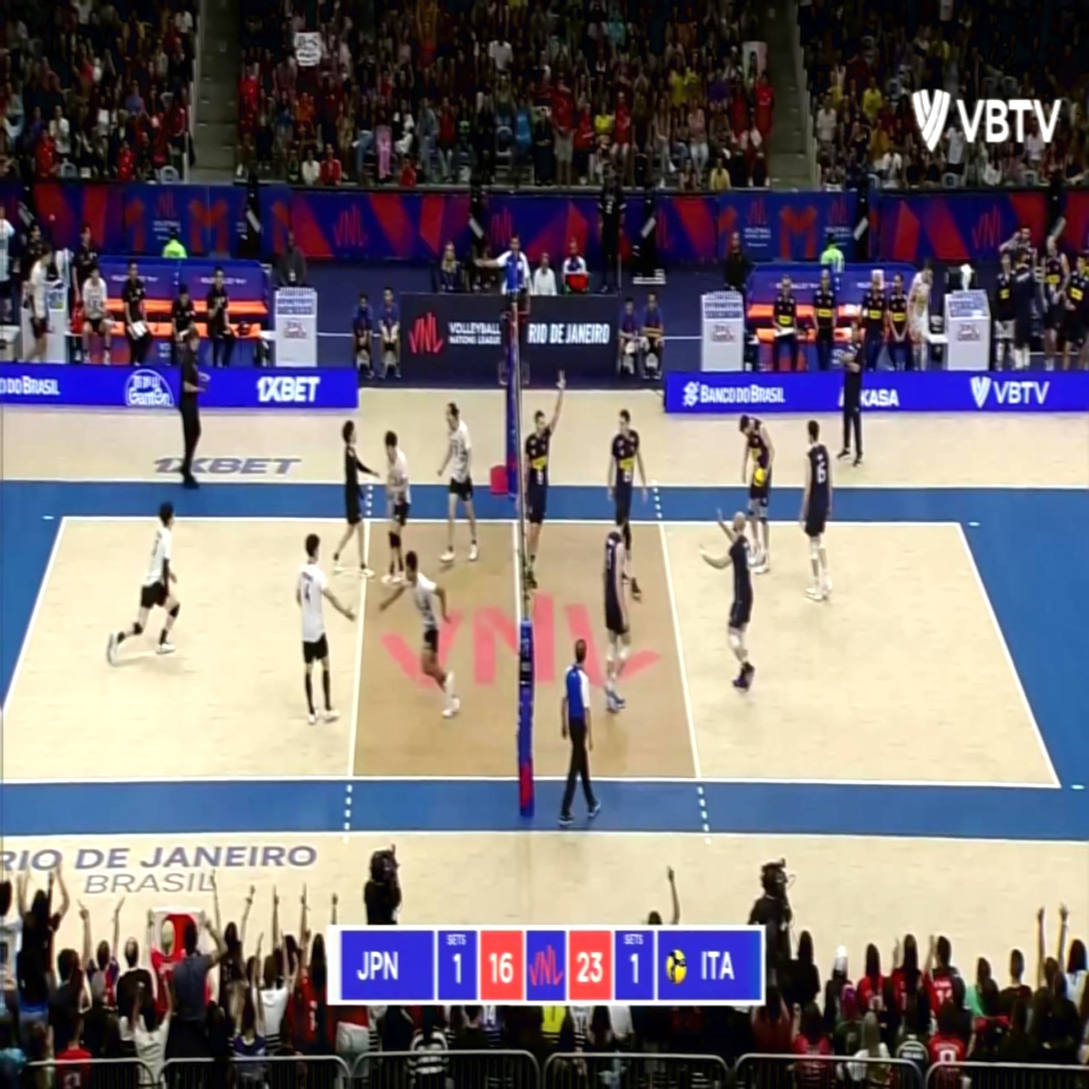ball: (752, 467, 763, 485)
